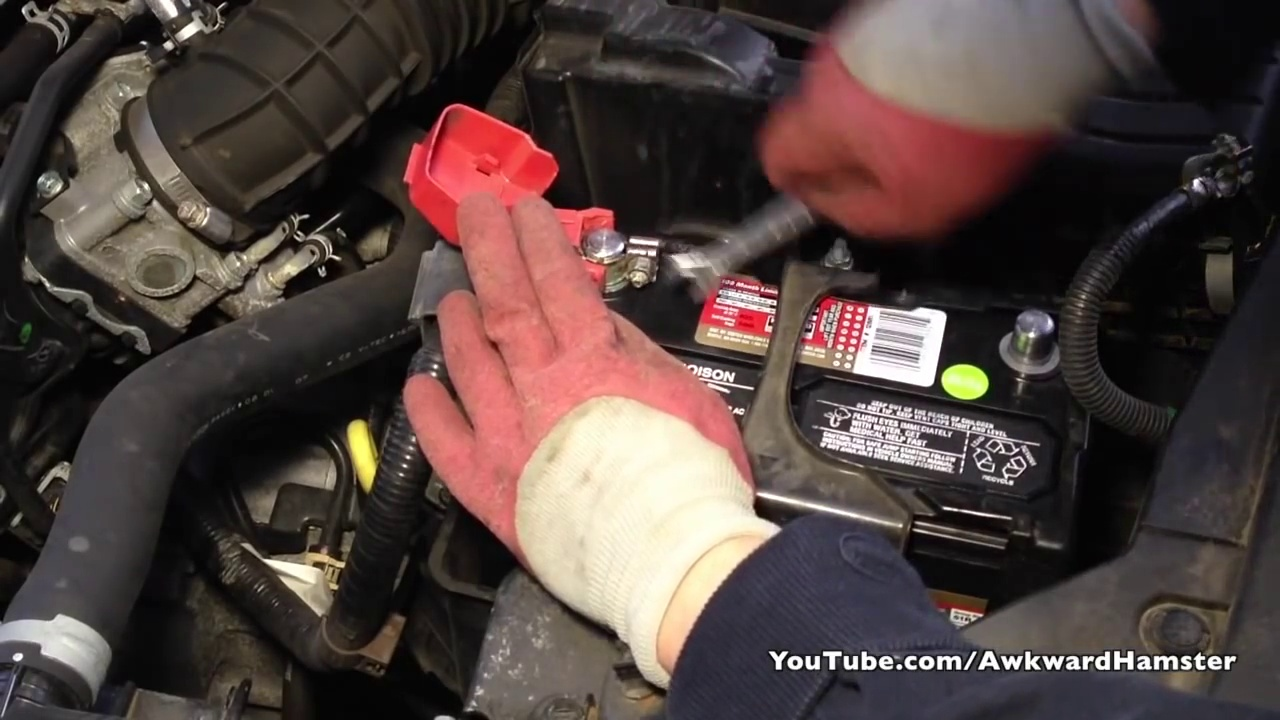battery: (513, 209, 1078, 554)
neg_disconnected: (962, 288, 1090, 404)
pos_connected: (423, 127, 651, 293)
pos_touched: (487, 162, 656, 401)
